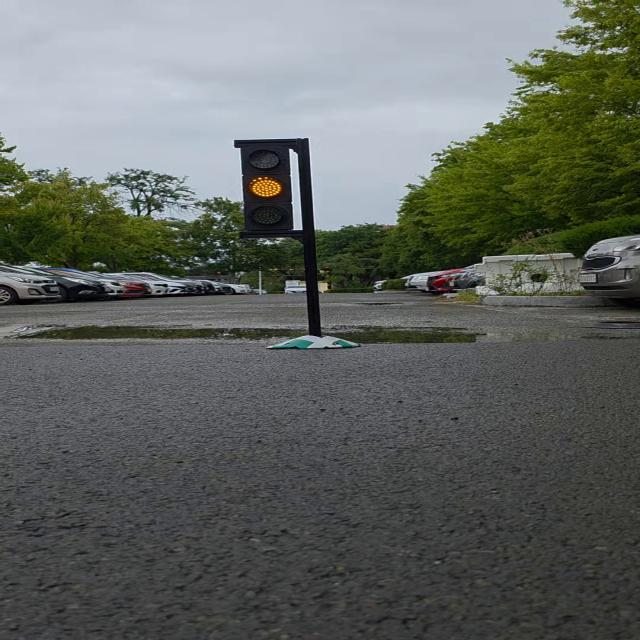yellow: (239, 142, 308, 240)
